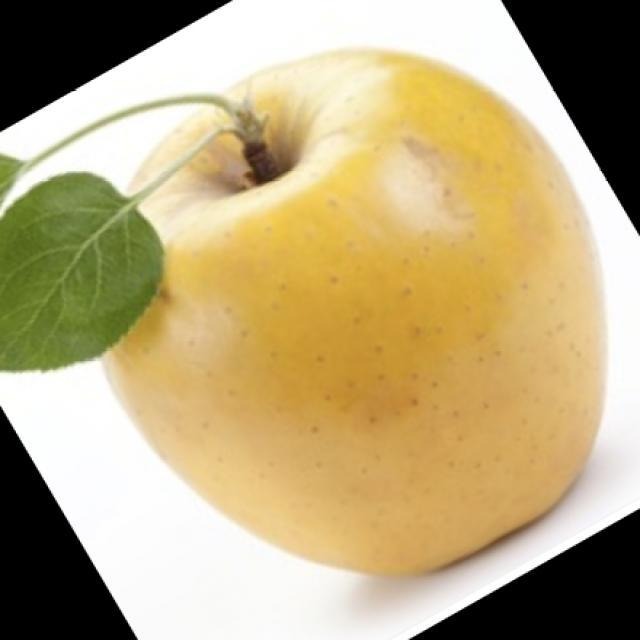Fresh Apple: (99, 58, 638, 562)
